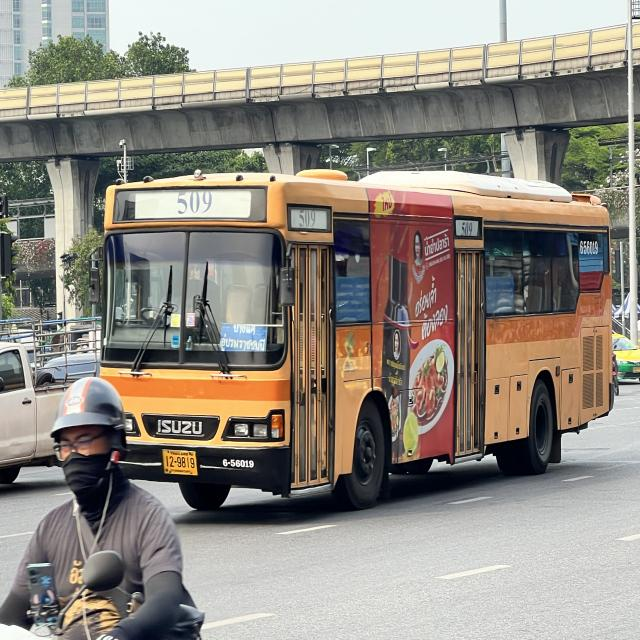BMTA-bus: (97, 170, 618, 513)
Bus-Line-Number: (170, 188, 213, 216), (294, 207, 319, 230)
Destination-Sign-Normal: (221, 323, 266, 351)
